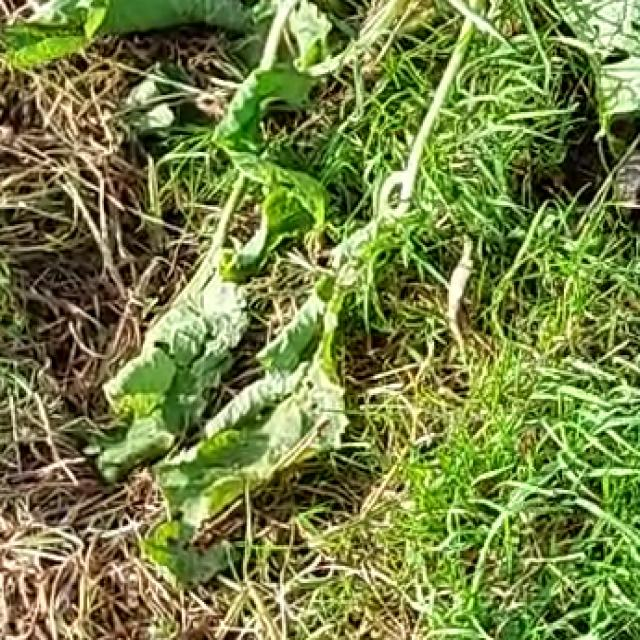organic waste: (43, 0, 499, 591)
